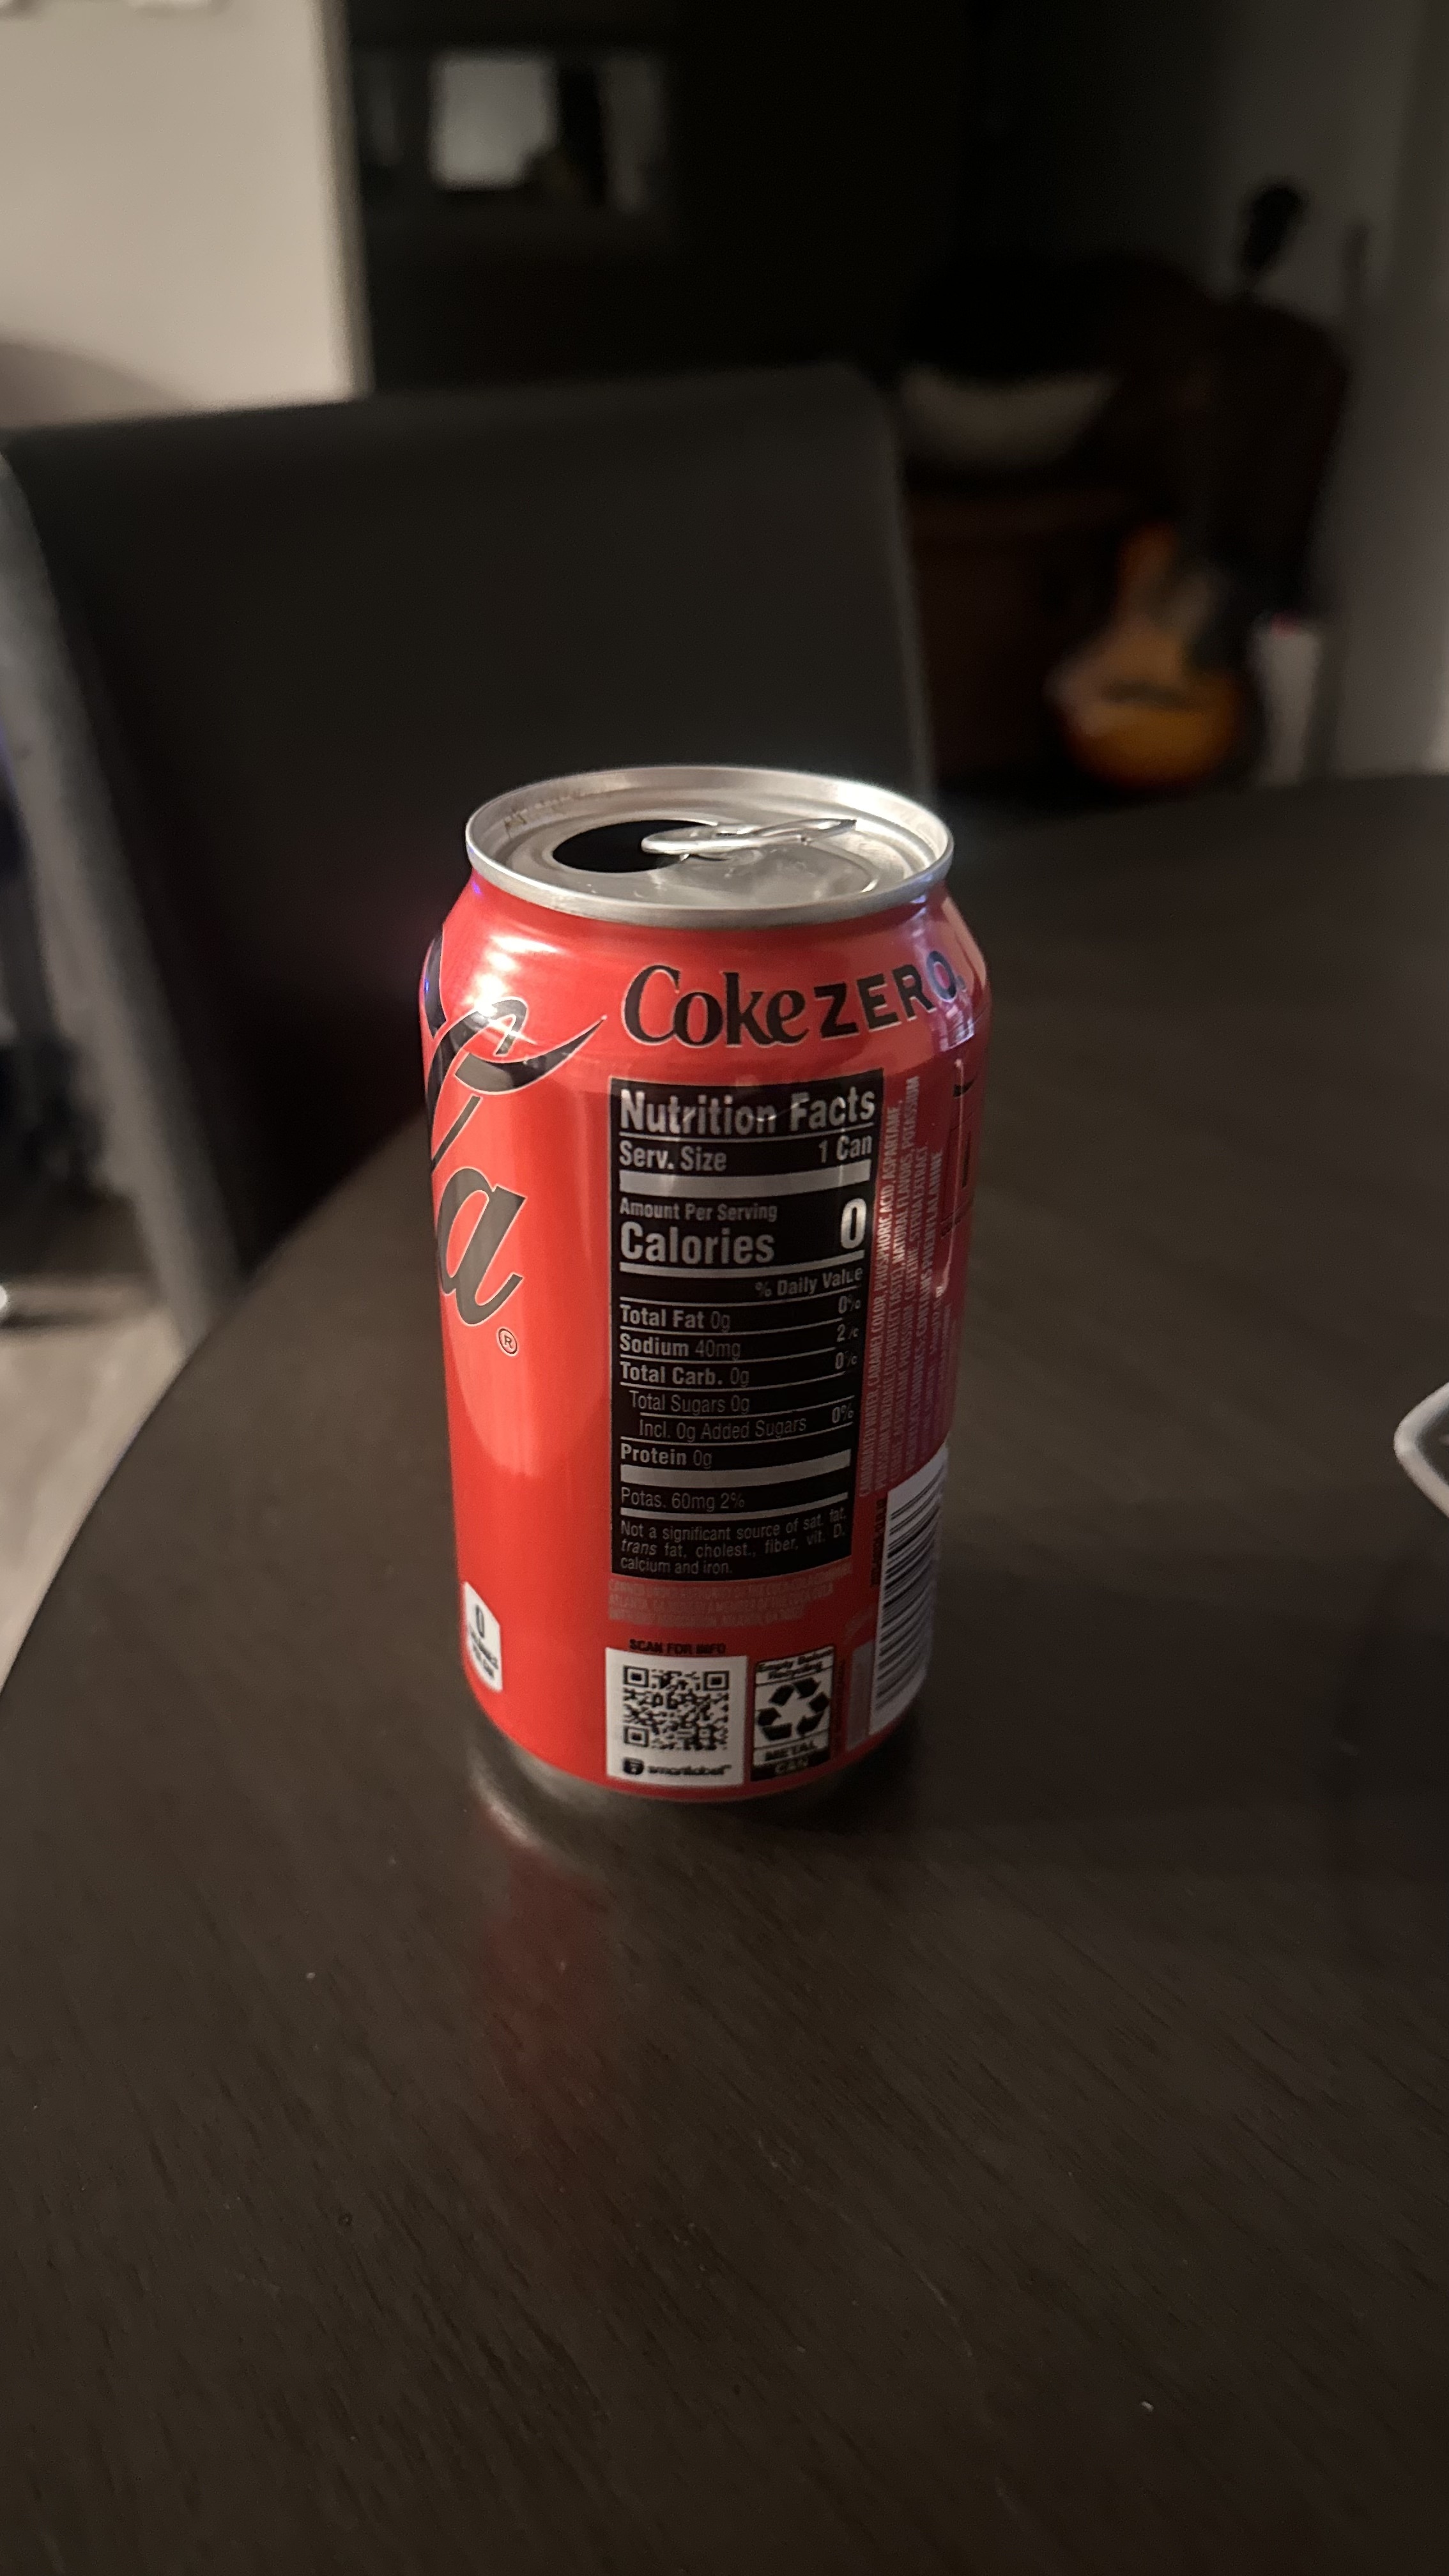Coke Zero: (363, 706, 1016, 1851)
